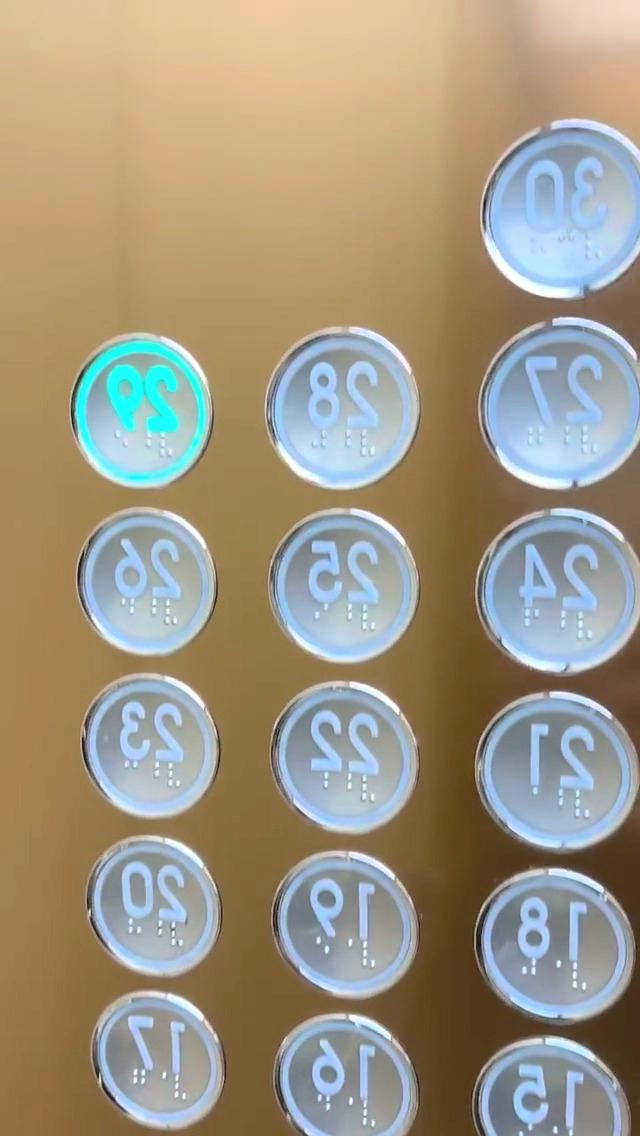button: (480, 111, 640, 310), (254, 327, 424, 491), (484, 320, 640, 494), (247, 520, 430, 660), (480, 694, 637, 856), (64, 337, 216, 489), (70, 674, 230, 816), (269, 677, 423, 824), (271, 850, 420, 996), (70, 509, 219, 653), (477, 519, 629, 660), (66, 997, 220, 1133), (247, 1023, 420, 1136), (487, 877, 621, 1010), (453, 1044, 629, 1136), (77, 839, 209, 961)
